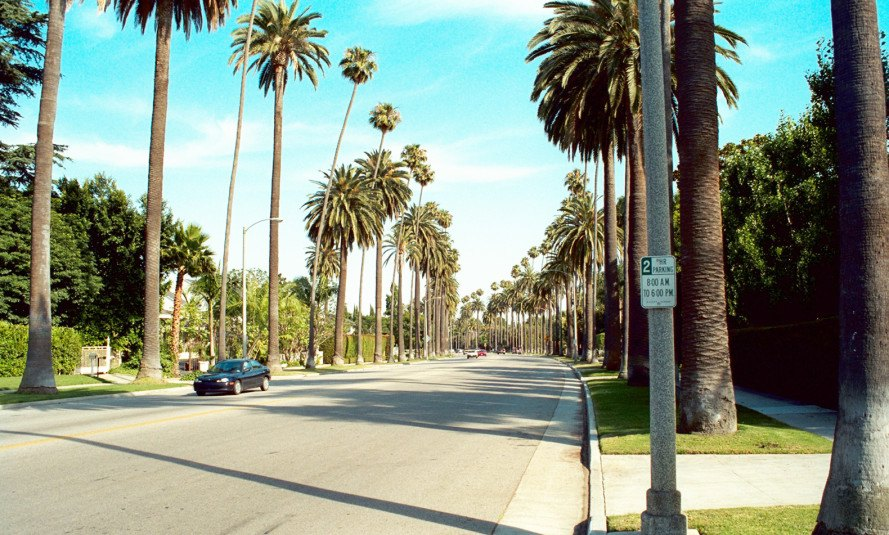tree: (229, 5, 342, 390)
